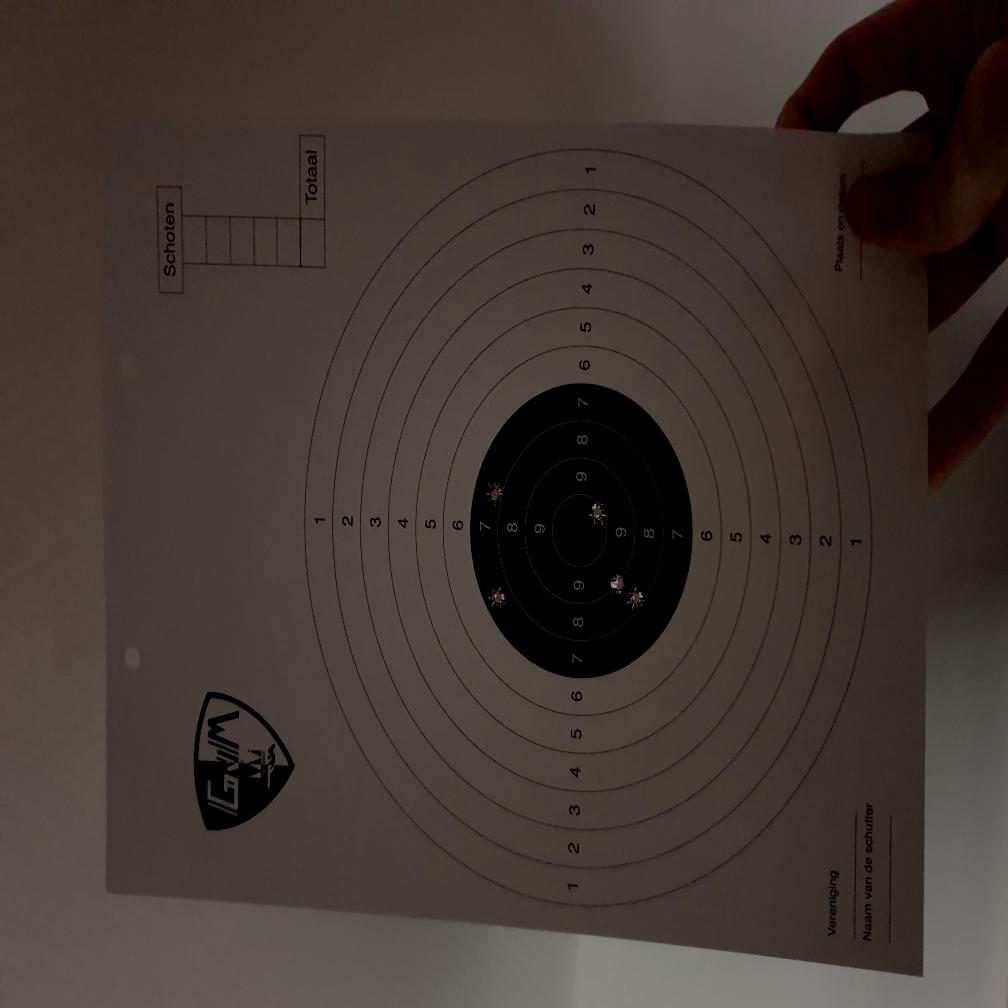10: (586, 500, 607, 526)
7: (487, 583, 506, 609)
8: (485, 481, 506, 507), (626, 583, 645, 611)
9: (610, 573, 626, 597)
Target: (303, 145, 874, 918)
black_contour: (469, 382, 691, 680)
